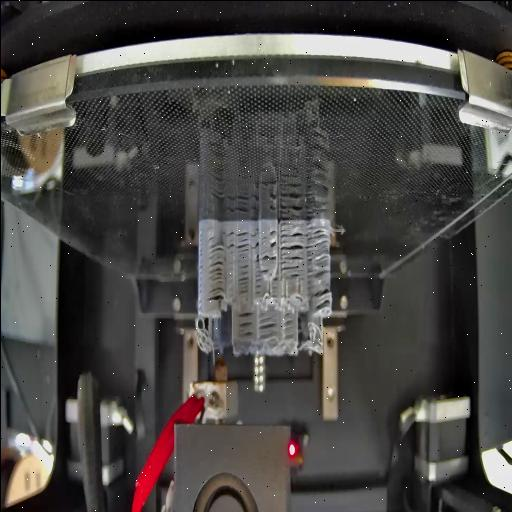cracks: (304, 225, 330, 313), (205, 241, 225, 301), (279, 222, 303, 260), (224, 228, 248, 256), (257, 312, 277, 338), (236, 311, 254, 335), (280, 264, 300, 284), (280, 310, 294, 338), (250, 223, 258, 262), (237, 264, 247, 295), (270, 276, 278, 298), (260, 252, 274, 264), (253, 276, 261, 296), (268, 226, 276, 246), (258, 268, 268, 272)
